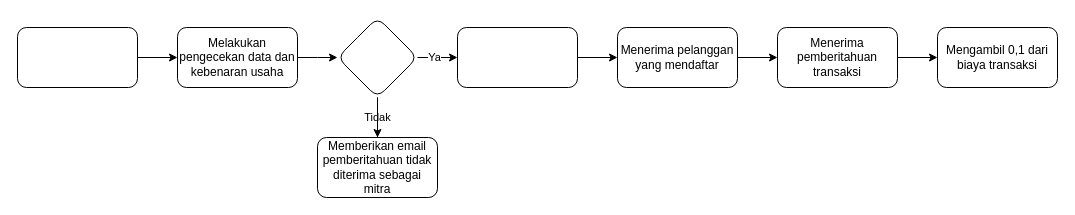
This 1075x215 diagram has some shape labels left out. The shapes that lost their labels are listed below. From the top down, each one's centre as x and y in pixels, then its label:
(x=77, y=57): Menerima mitra yang mendaftar
(x=377, y=57): ACC ?
(x=517, y=57): Memberikan email penerimaan dan memasukan data mitra ke database
